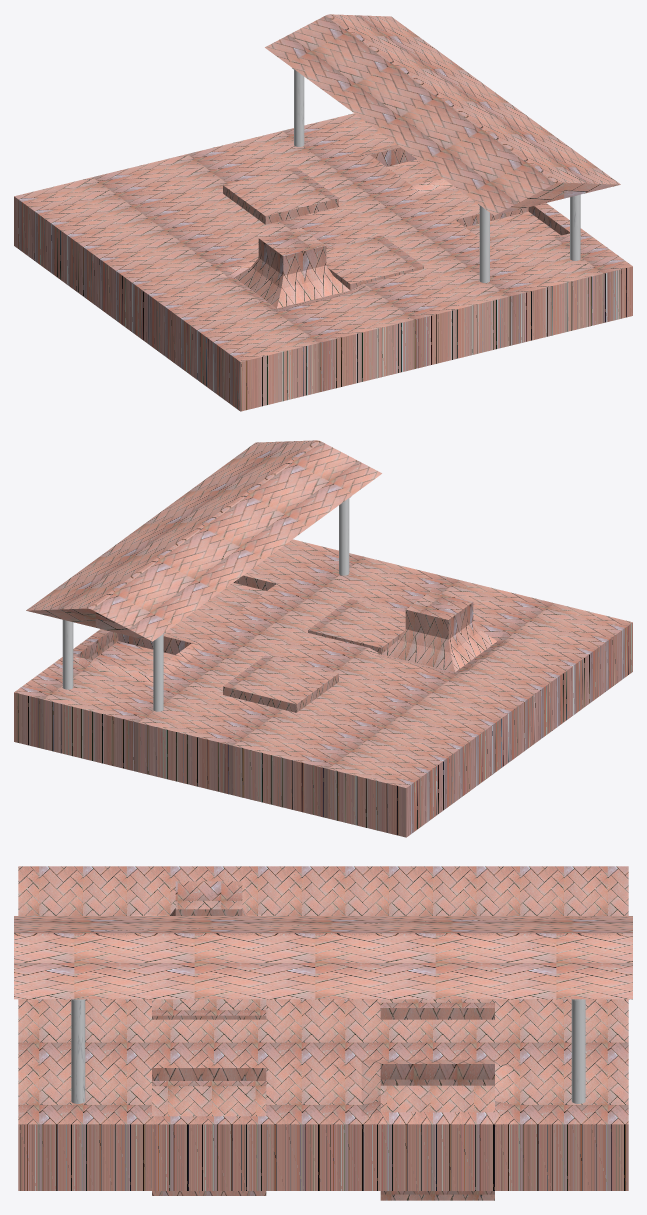
File: forum.obj
3 views of the same model, one above another, from view 1: azimuth 30°, elevation 25°; view 2: azimuth 150°, elevation 25°; view 3: azimuth 270°, elevation 25° (orthographic). The views are drawn at different scales.
Parts seen in each view (by area): view 1: Plane, Cube_Cube.001, Cylinder; view 2: Plane, Cube_Cube.001, Cylinder; view 3: Plane, Cube_Cube.001, Cylinder.
Part boxes in pixels (x1,y1,x2,y2): Plane: (14,113,632,411); Cube_Cube.001: (265,14,620,215); Cylinder: (292,68,580,282); Plane: (14,539,632,837); Cube_Cube.001: (26,440,381,641); Cylinder: (62,496,351,711); Plane: (18,866,628,1200); Cube_Cube.001: (14,916,632,999); Cylinder: (71,999,585,1103).
Bounding box in the file's own units: 13.59 × 5.5 × 13.78.
Materials: 3 (3 with a texture image).
